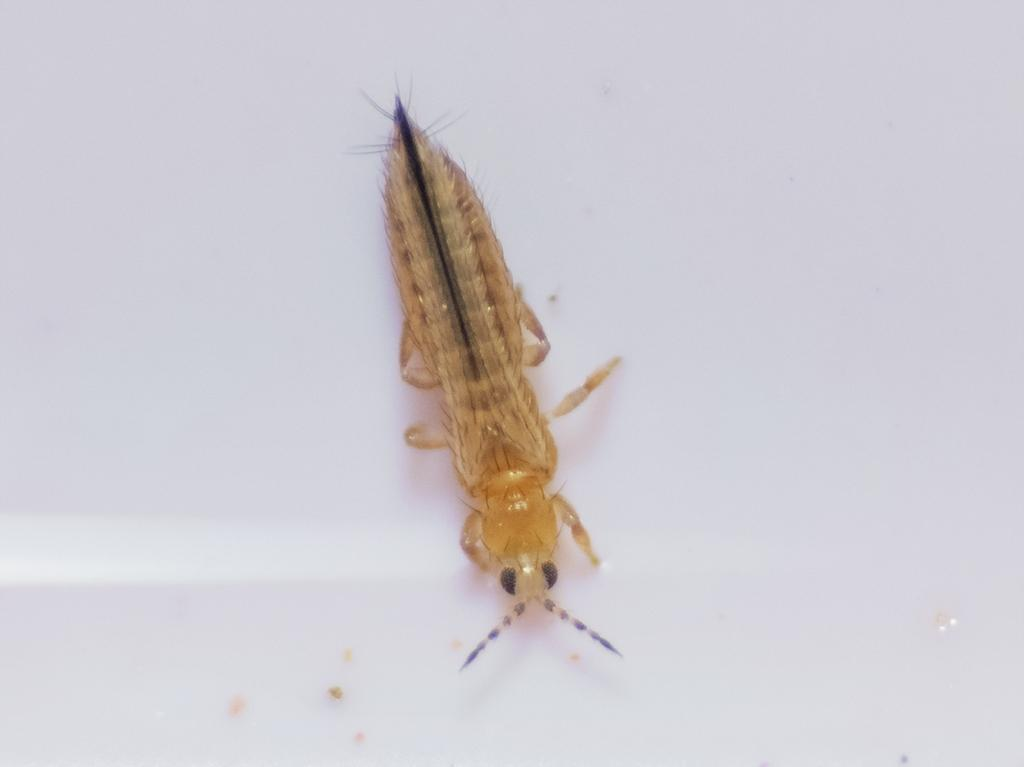tiny_pests: (320, 60, 661, 703)
